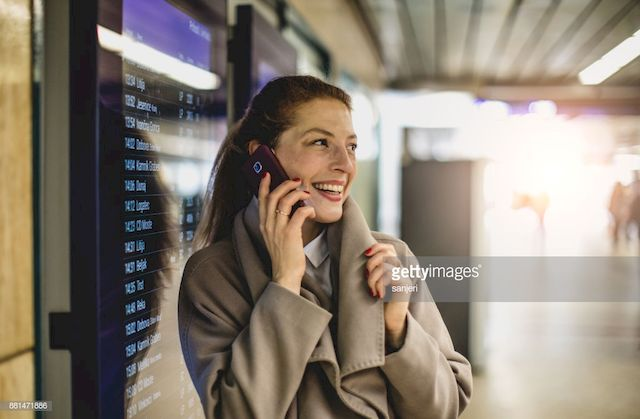phone: (248, 146, 307, 230)
talk: (245, 121, 362, 267)
